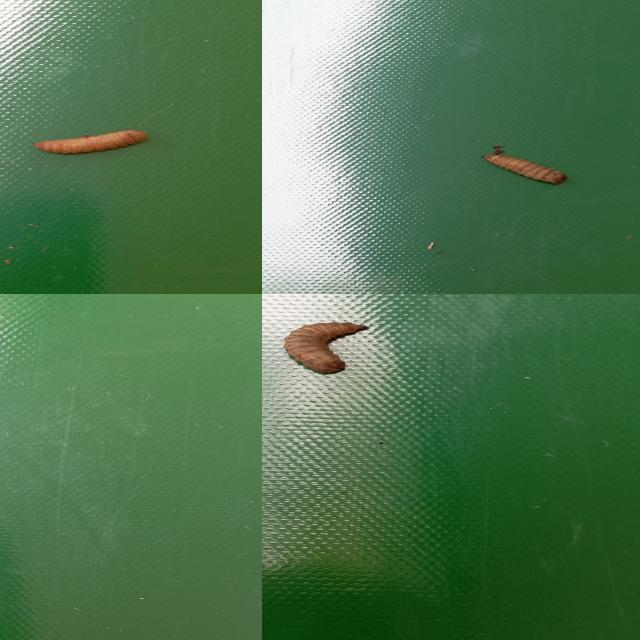Maggot: (282, 322, 366, 378), (483, 146, 567, 188), (34, 131, 150, 157)
